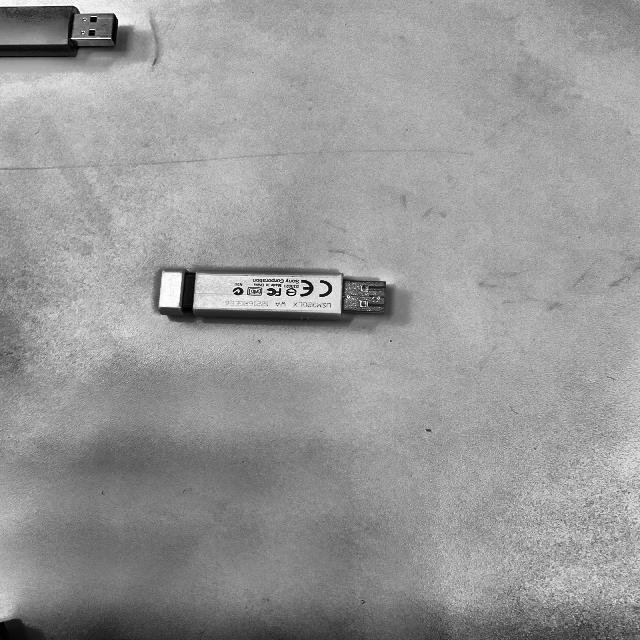Mug: (140, 249, 418, 333)
